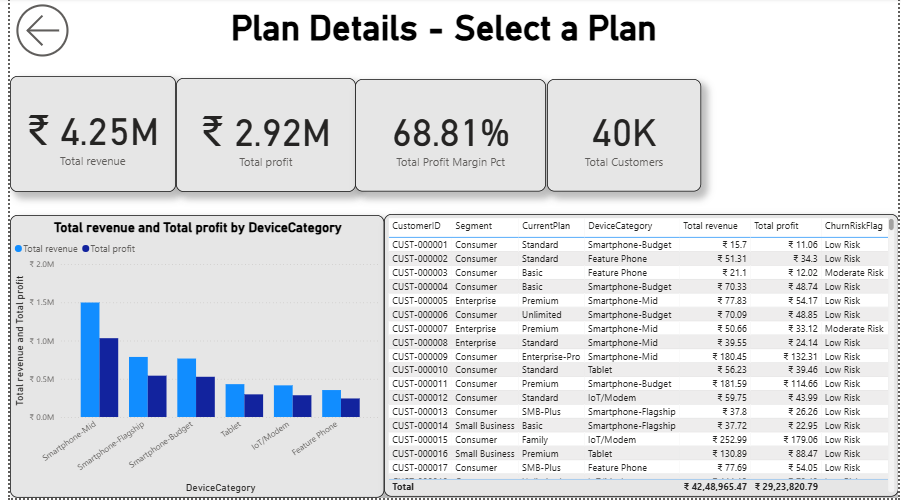

What the dashboard file says about the page in this screenshot:
{"tool":"powerbi","page":{"name":"Plan Details","canvas":[1280,720],"ordinal":10},"visuals":[{"type":"actionButton","box":[0,0,100.1,93.5],"z":9000},{"type":"card","fields":{"Values":["Measure.Plan Details Title"]},"box":[238.6,0,771.7,72.6],"z":11000},{"type":"card","fields":{"Values":["Measure.Total revenue"]},"box":[0,111.8,238.6,166.9],"z":12000},{"type":"card","fields":{"Values":["Measure.Total profit"]},"box":[238.6,115.1,258.7,163.5],"z":13000},{"type":"card","fields":{"Values":["Measure.Total Profit Margin Pct"]},"box":[497.3,116.8,275.4,161.9],"z":14000},{"type":"card","fields":{"Values":["Measure.Total Customers"]},"box":[772.7,116.8,222,161.9],"z":15000},{"type":"clusteredColumnChart","fields":{"Category":["Telecom_Customers.DeviceCategory"],"Y":["Measure.Total revenue","Measure.Total profit"]},"box":[0,312.1,539,407.2],"z":16000},{"type":"tableEx","fields":{"Values":["Telecom_Customers.CustomerID","Telecom_Customers.Segment","Telecom_Customers.CurrentPlan","Telecom_Customers.DeviceCategory","Measure.Total revenue","Measure.Total profit","Telecom_Customers.ChurnRiskFlag"]},"box":[538.6,311.3,741.4,407.4],"z":17000}]}

Visuals, with their boxes in screenshot pixels (x1, y1, x2, y2), scaled from the page's 1280x720 canvas onto the 901x500 screenshot:
actionButton: detection(0, 0, 70, 65)
card - Measure.Plan Details Title: detection(168, 0, 711, 50)
card - Measure.Total revenue: detection(0, 78, 168, 194)
card - Measure.Total profit: detection(168, 80, 350, 193)
card - Measure.Total Profit Margin Pct: detection(350, 81, 544, 194)
card - Measure.Total Customers: detection(544, 81, 700, 194)
clusteredColumnChart - Telecom_Customers.DeviceCategory x Measure.Total revenue: detection(0, 217, 379, 499)
tableEx - Telecom_Customers.CustomerID x Telecom_Customers.Segment: detection(379, 216, 900, 499)
